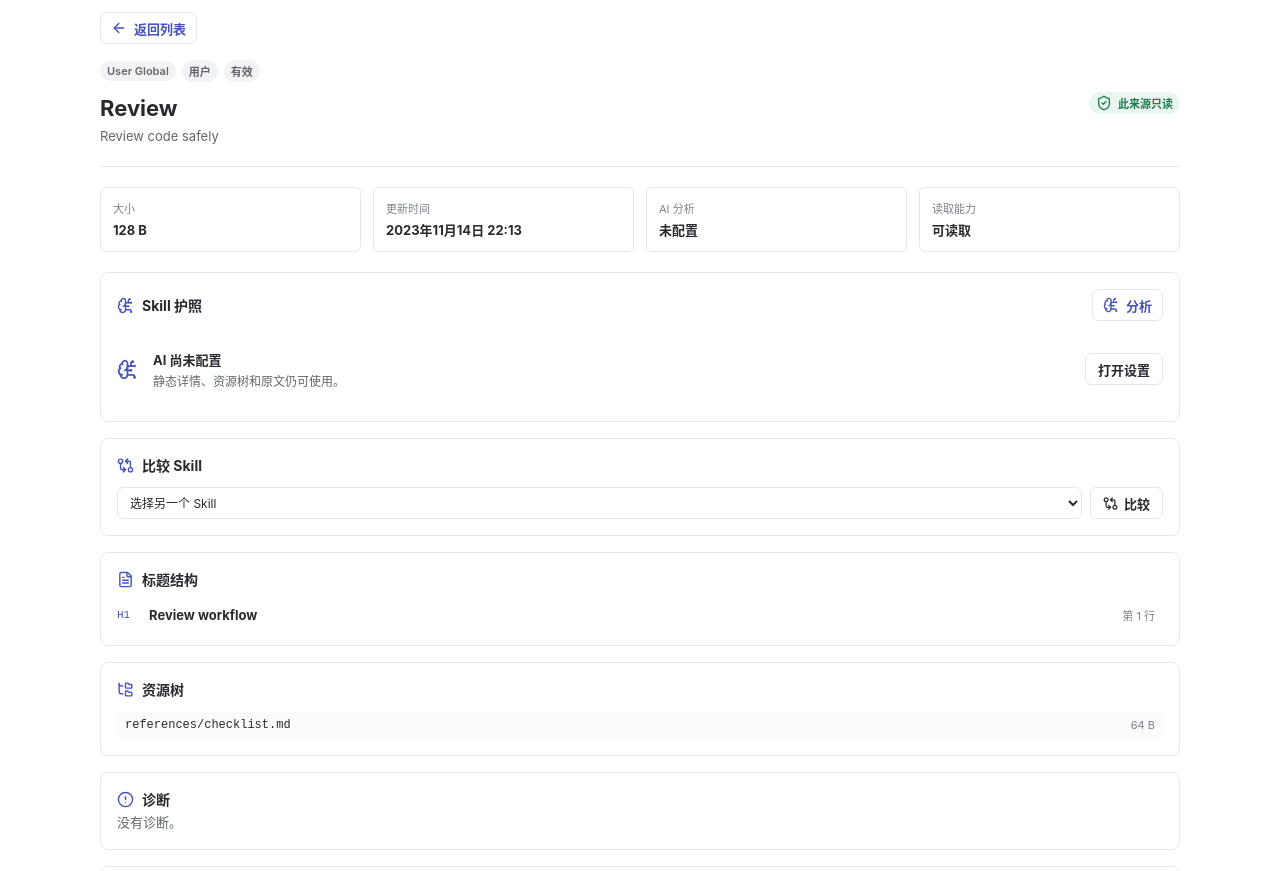
Test: SkillDetailPage › compares same-name Skills with Provider labels and highlighted differences
Select "Review · Repository" in the dropdown named "选择对比 Skill": (600, 503) [117,487,1082,519]
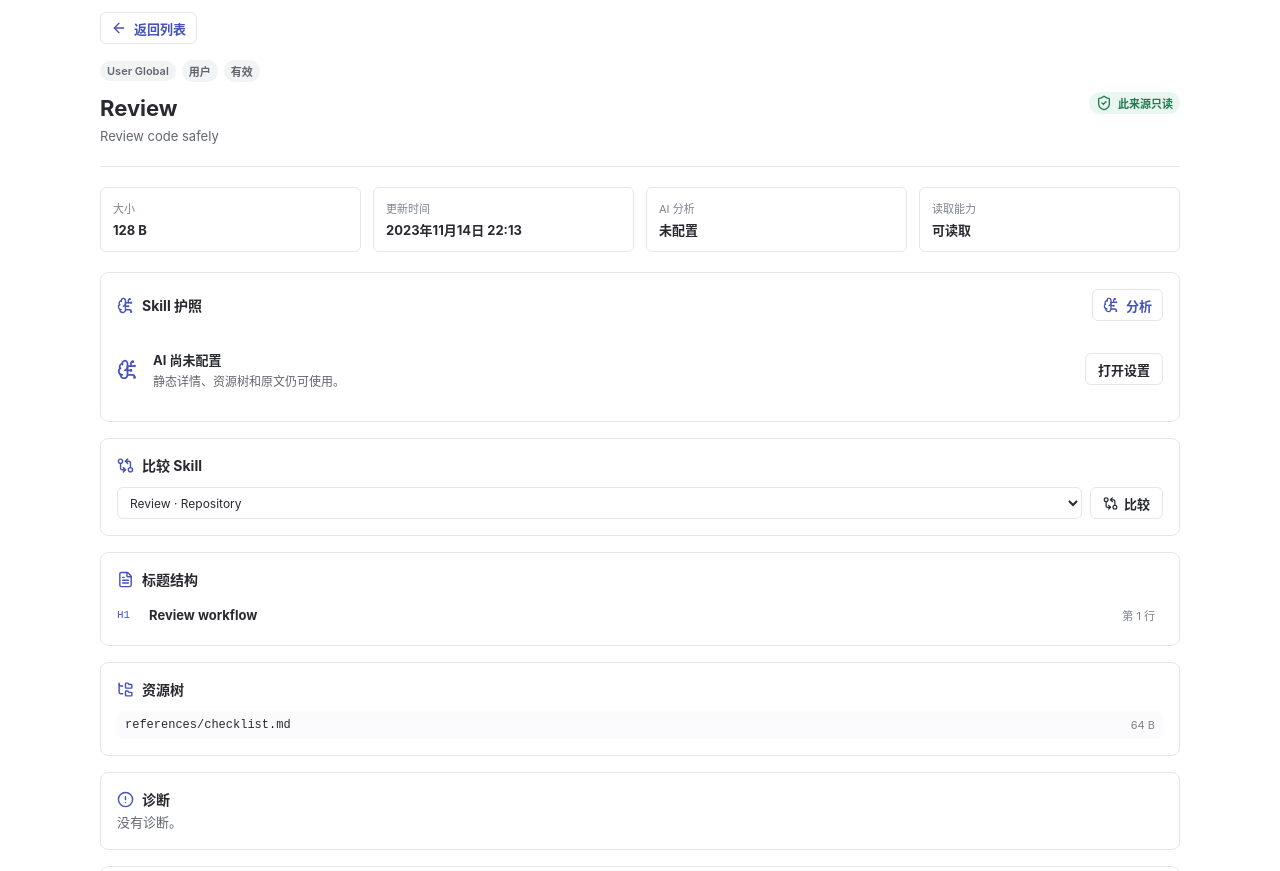
Click the button "比较": (1126, 503) [1090,487,1163,519]
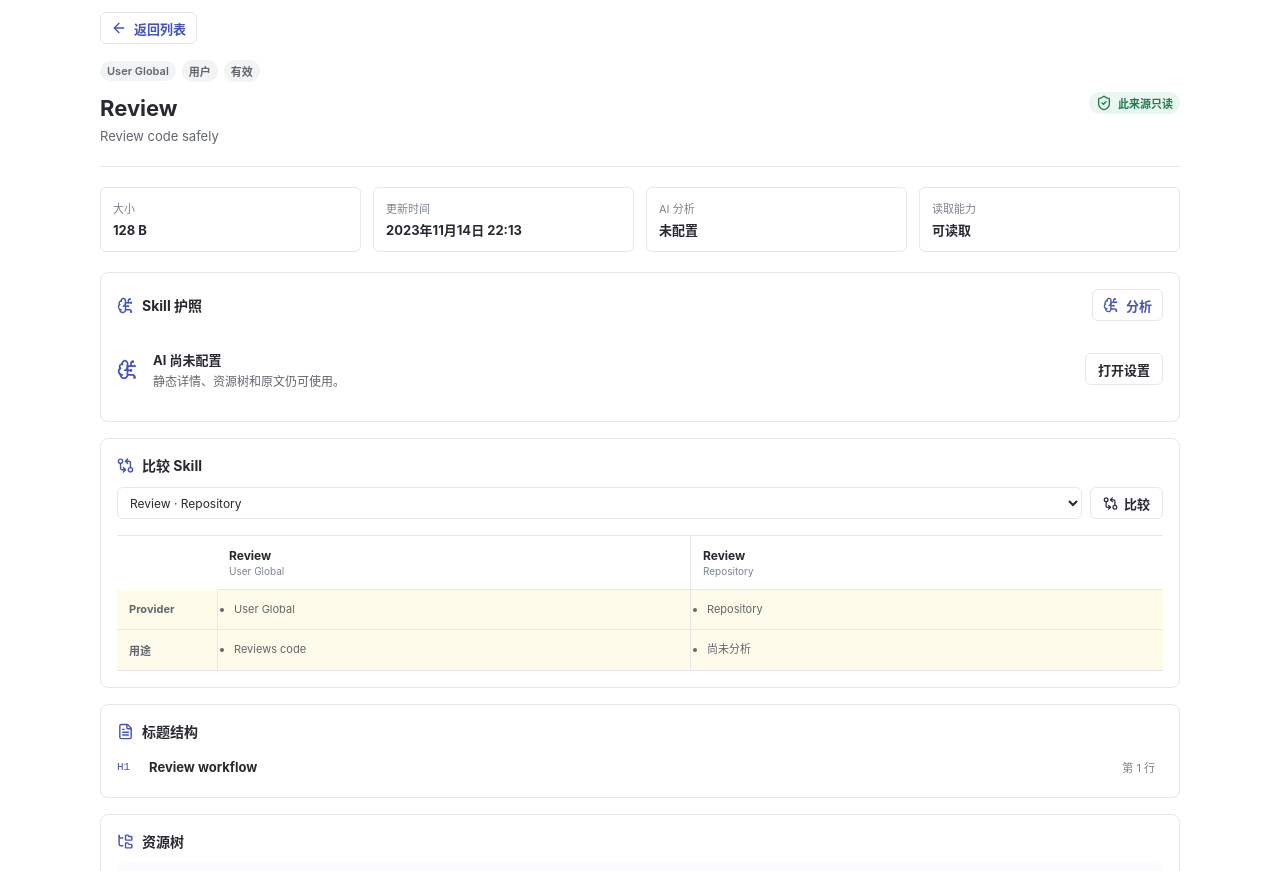
Expected: the element with test id "skill-comparison" shows "User Global", [229,565,284,577]
Expected: the element with test id "skill-comparison" shows "Repository", [703,565,754,577]
Expected: the element with test id "skill-comparison" shows "尚未分析", [707,642,751,656]
